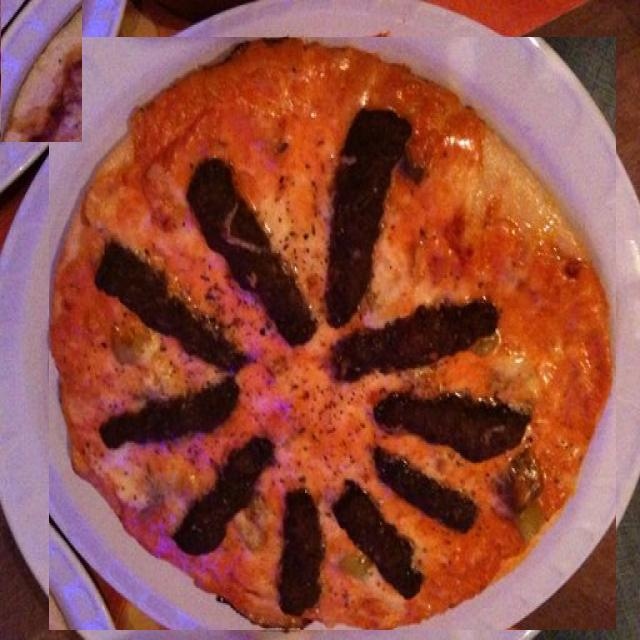pizza: (49, 38, 616, 632), (1, 1, 82, 142)
